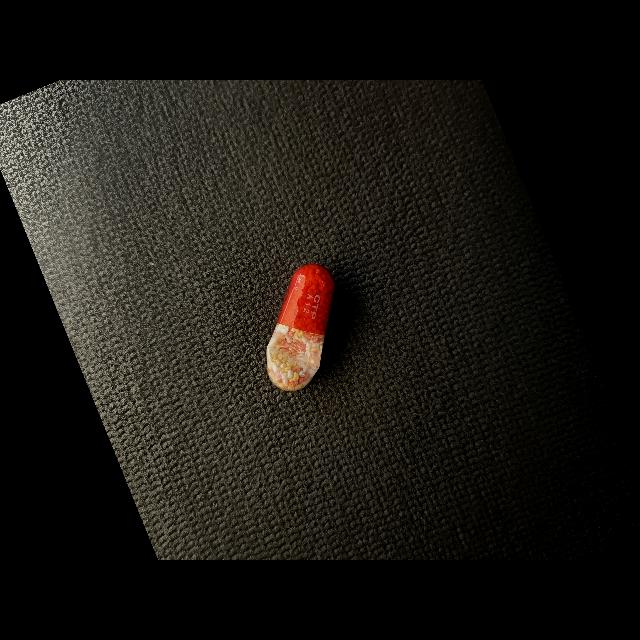Defective Capsule: (266, 264, 335, 391)
